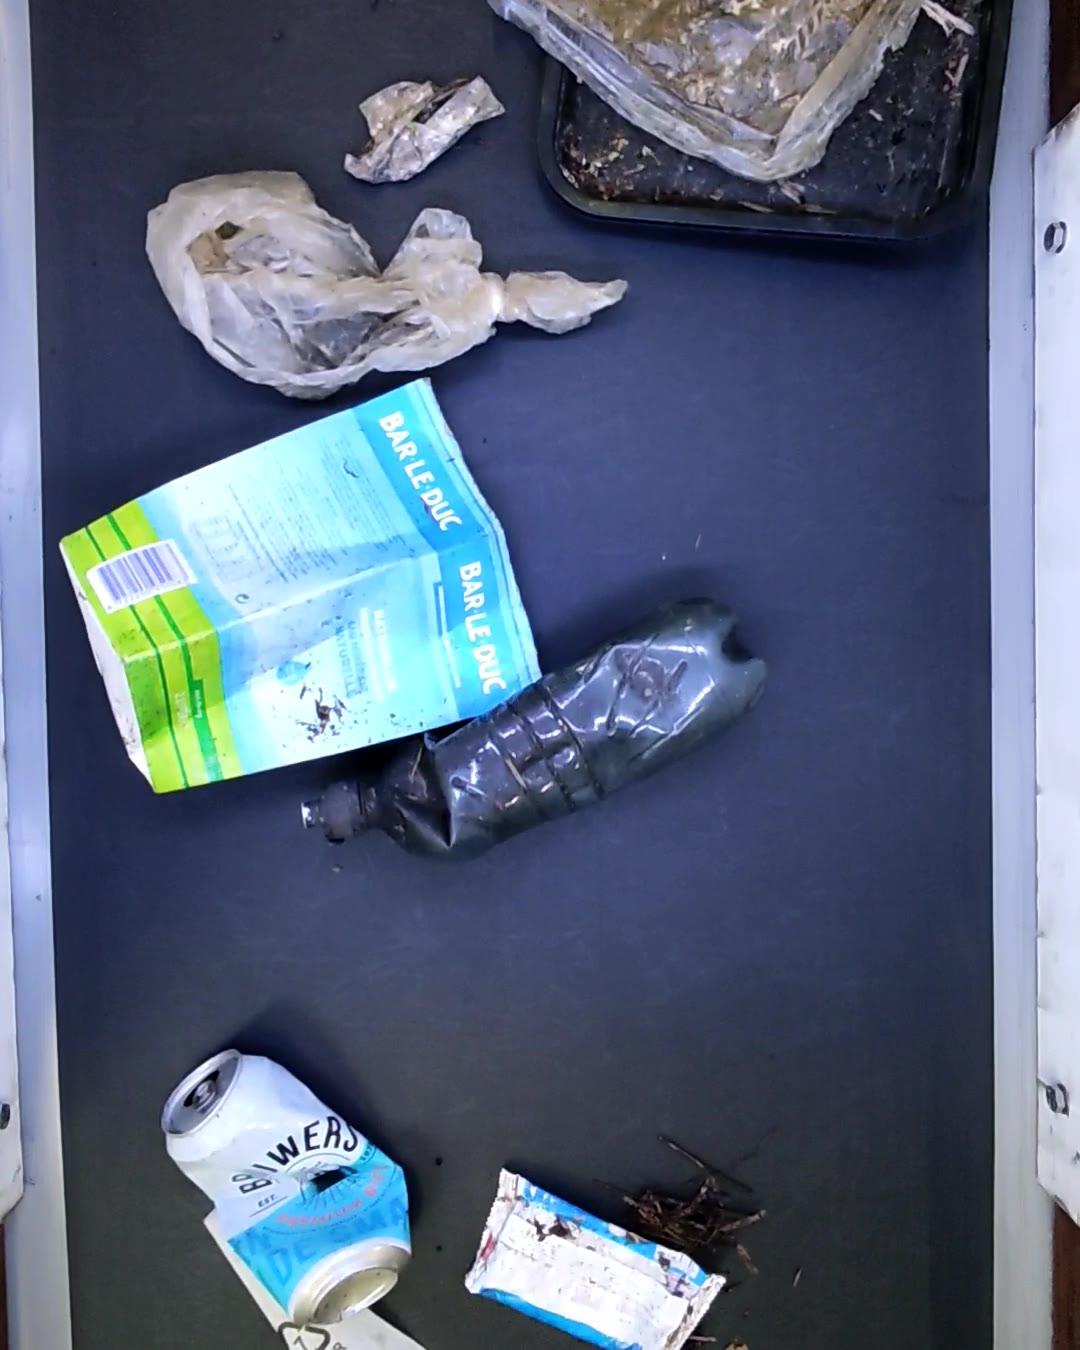Drankblikjes: (161, 1050, 408, 1319)
Drankflessen - 1-2 liter: (296, 602, 782, 863)
Plastic folies of stukken daarvan 2.5- 50 cm: (149, 166, 633, 409), (336, 78, 507, 186)
Snoep snack en chips verpakkingen: (461, 1169, 730, 1350)
Voedselverpakkingen: (478, 0, 1017, 252)
